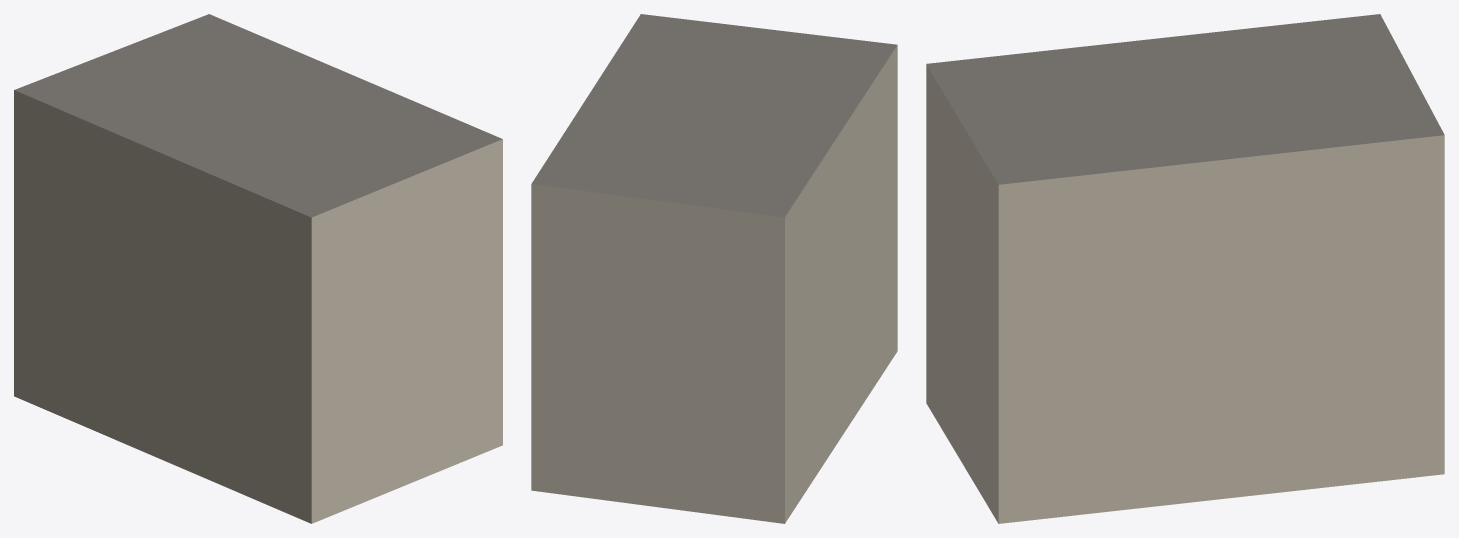
3 renders of one model, left to right at view 1: azimuth 30°, elevation 25°; view 2: azimuth 150°, elevation 25°; view 3: azimuth 270°, elevation 25°, orthographic. The views are drawn at different scales.
Visible parts, largest first — view 1: HP-w380339910; view 2: HP-w380339910; view 3: HP-w380339910.
Part boxes in pixels (x1,y1,x2,y2): HP-w380339910: [14, 14, 502, 523]; HP-w380339910: [531, 14, 897, 523]; HP-w380339910: [926, 14, 1444, 523].
Size of the model in its own units: 19.45 by 18 by 24.95.
